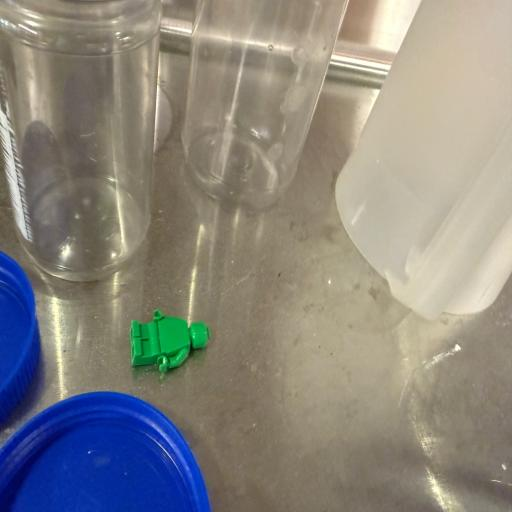Lego-Dude: (130, 310, 210, 372)
